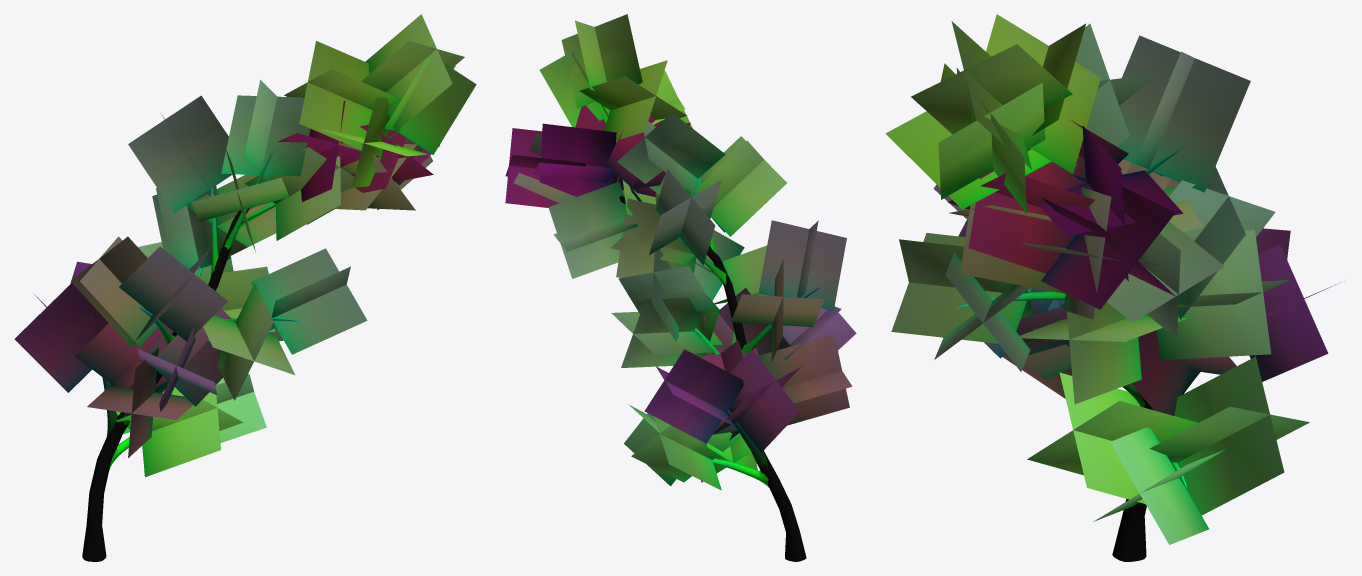
The model's file is URP_P5_Tree_6_LOD_1.fbx.
The picture shows the model from 3 angles, left to right: view 1: azimuth 30°, elevation 25°; view 2: azimuth 150°, elevation 25°; view 3: azimuth 270°, elevation 25°; orthographic projection. The views are drawn at different scales.
Visible parts, largest first — view 1: Tree_6_LOD_1; view 2: Tree_6_LOD_1; view 3: Tree_6_LOD_1.
Part boxes in pixels (bbox=[...]): Tree_6_LOD_1: bbox=[14, 14, 476, 561]; Tree_6_LOD_1: bbox=[505, 14, 856, 561]; Tree_6_LOD_1: bbox=[885, 14, 1341, 561].
Bounding box in the file's own units: 409 × 519 × 307.
